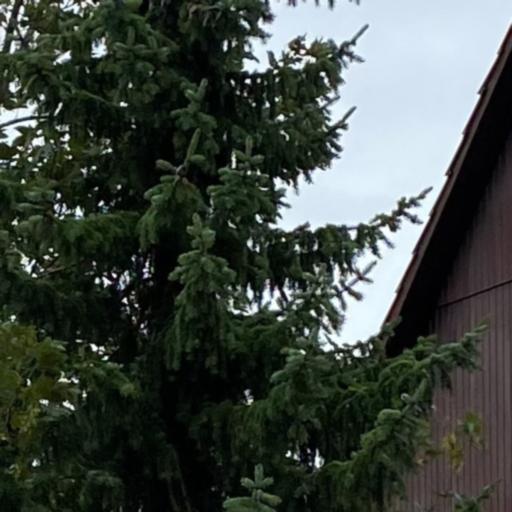tree: (1, 1, 503, 512)
